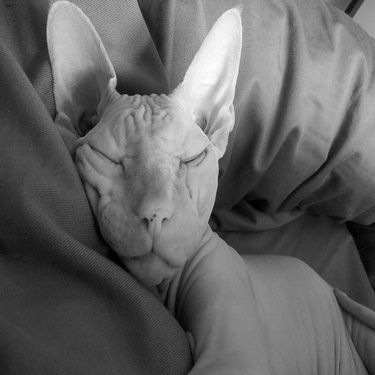cat: (38, 1, 369, 371)
